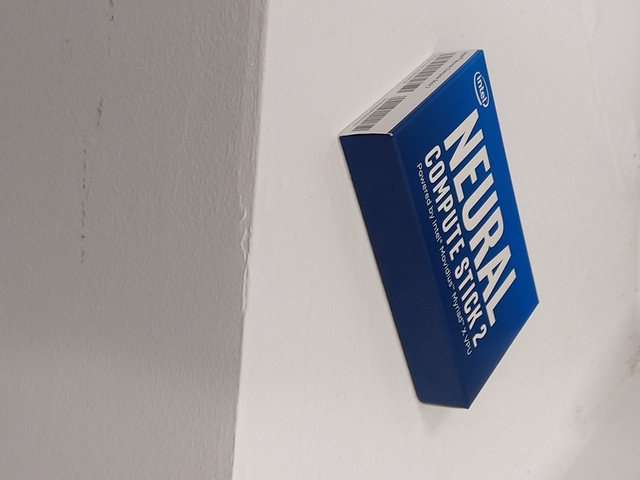box: (335, 48, 541, 412)
